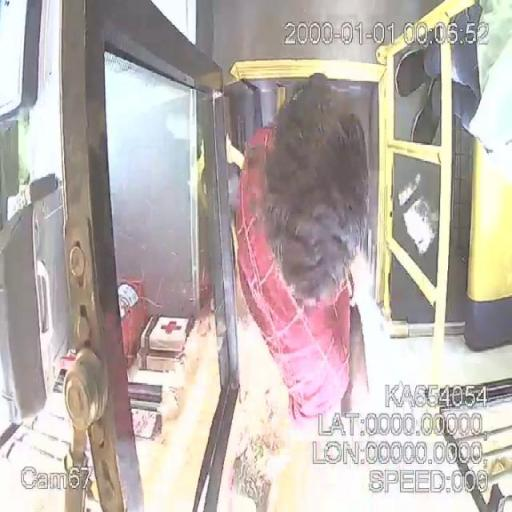persona: (234, 72, 374, 424)
